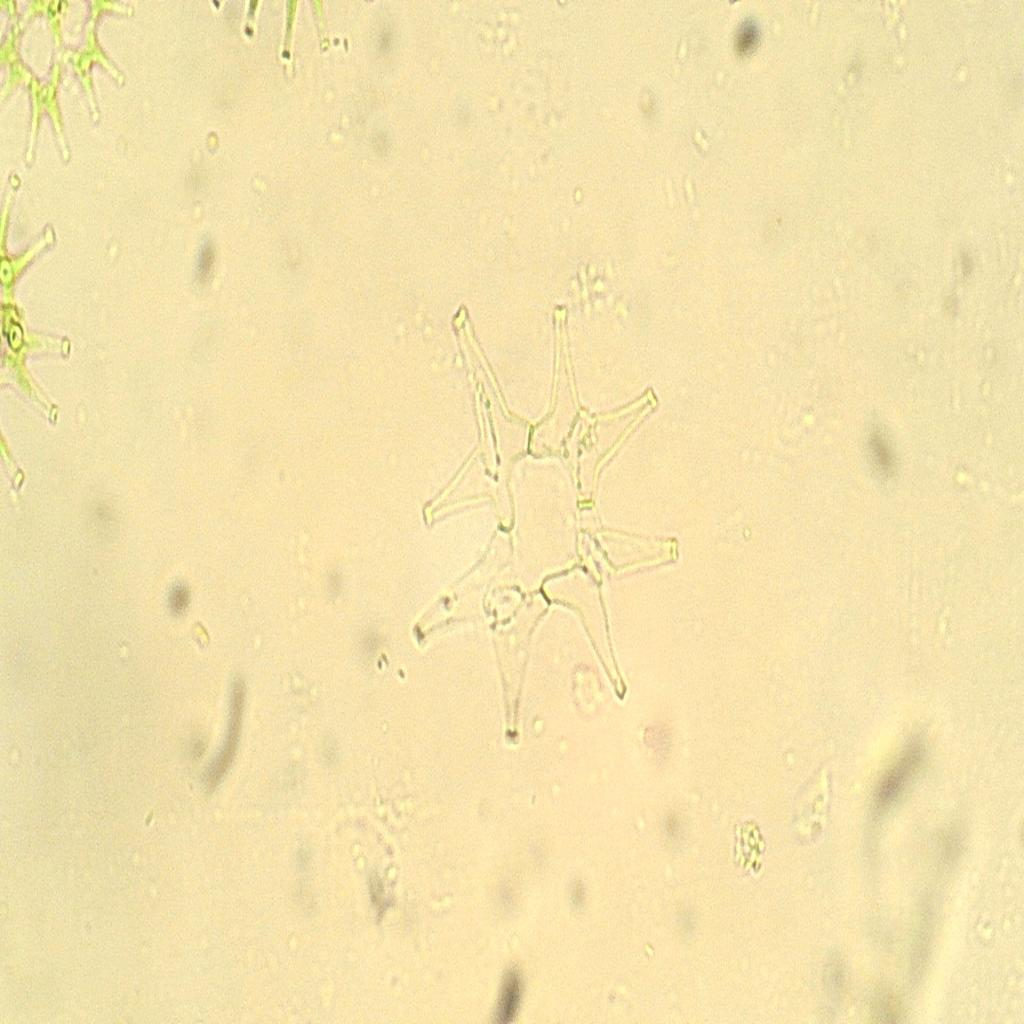Pediastrum_1F0: (380, 250, 700, 781)
